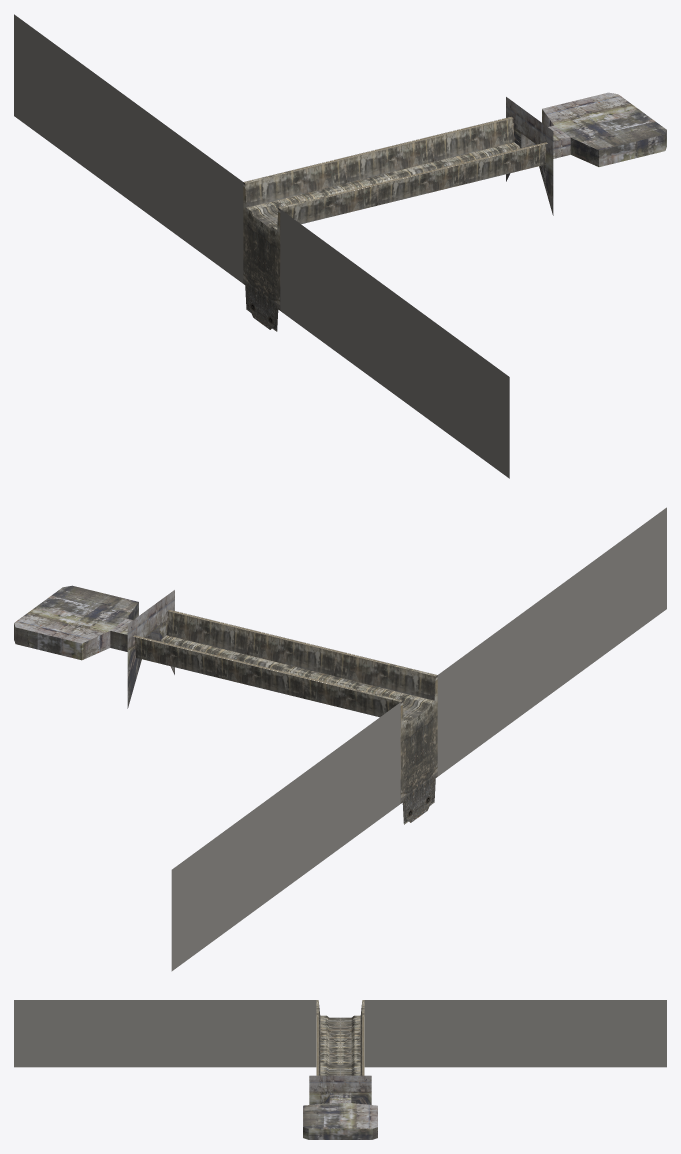
Rendered from outside_GLB.glb.
3 renders of one model, top to bottom at view 1: azimuth 30°, elevation 25°; view 2: azimuth 150°, elevation 25°; view 3: azimuth 270°, elevation 25°, orthographic. The views are drawn at different scales.
Visible parts, largest first — view 1: Grid; view 2: Grid; view 3: Grid.
Boxes of the visible parts, bbox=[...] form: Grid: bbox=[14, 14, 666, 478]; Grid: bbox=[14, 507, 666, 971]; Grid: bbox=[14, 1000, 666, 1139].
Size of the model in its own units: 233 by 84.39 by 524.
Materials: 2 (2 with a texture image).
